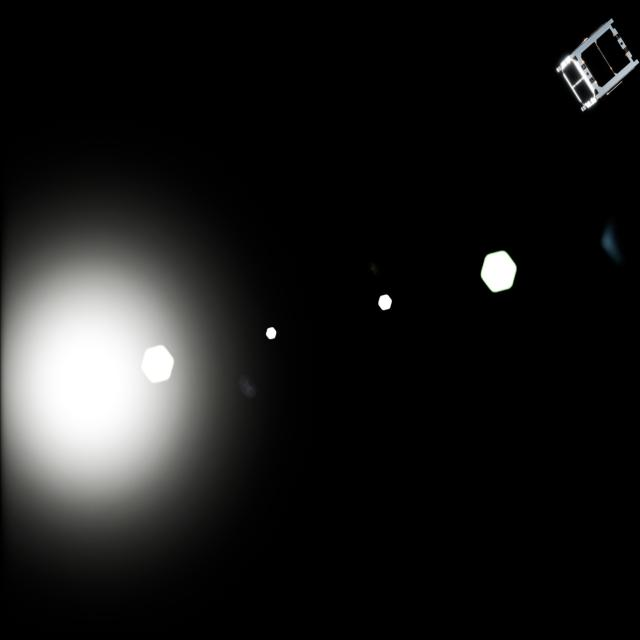medium_debris: (550, 12, 640, 111)
